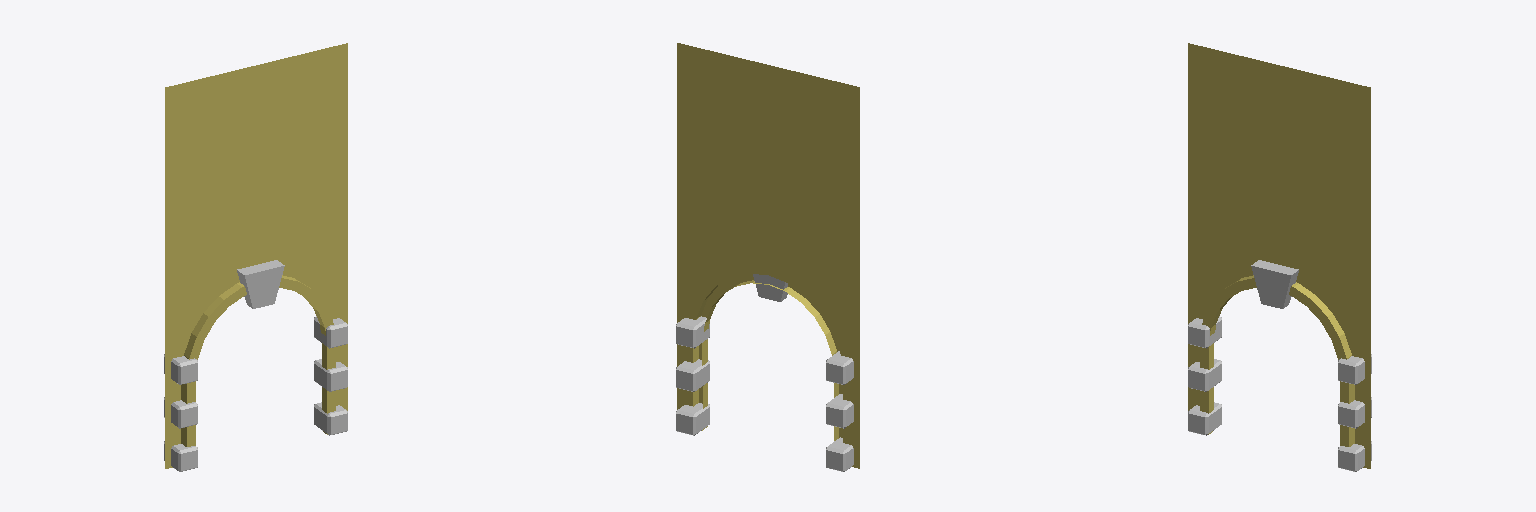
The model's file is Door.obj.
The picture shows the model from 3 angles: view 1: azimuth 30°, elevation 25°; view 2: azimuth 150°, elevation 25°; view 3: azimuth 330°, elevation 25°; orthographic projection.
Parts seen in each view (by area): view 1: Plane.128_Plane.033; view 2: Plane.128_Plane.033; view 3: Plane.128_Plane.033.
Boxes of the visible parts, <box> form: Plane.128_Plane.033: <box>164,43,347,471</box>; Plane.128_Plane.033: <box>676,43,859,471</box>; Plane.128_Plane.033: <box>1188,43,1371,471</box>.
Size of the model in its own units: 64 by 128 by 10.6.